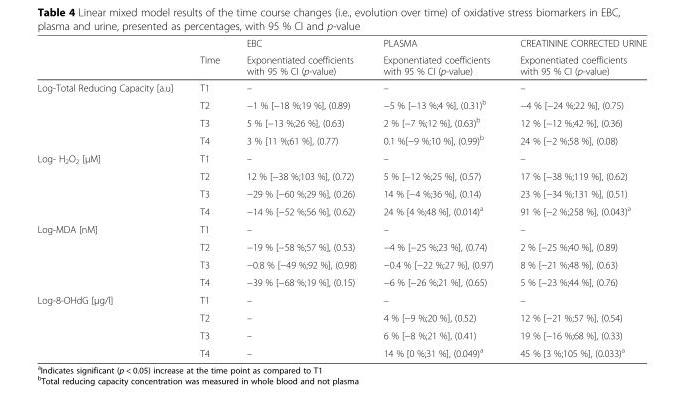table: (36, 37, 646, 358)
table column: (36, 37, 185, 358), (506, 37, 646, 358), (232, 37, 369, 358), (369, 37, 506, 358), (185, 37, 232, 358)
table column header: (36, 37, 646, 78)
table row: (36, 50, 646, 78), (36, 201, 646, 220), (36, 95, 646, 113), (36, 130, 646, 148), (36, 148, 646, 166), (36, 166, 646, 184), (36, 237, 646, 255), (36, 272, 646, 290), (36, 290, 646, 308), (36, 308, 646, 326), (36, 78, 646, 95), (36, 113, 646, 130), (36, 184, 646, 201), (36, 220, 646, 237), (36, 255, 646, 272), (36, 326, 646, 343), (36, 343, 646, 358), (36, 37, 646, 50)
table spanning cell: (36, 148, 185, 220), (36, 78, 185, 148), (36, 220, 185, 290), (36, 290, 185, 358), (506, 37, 646, 78), (232, 37, 369, 78), (369, 37, 506, 78), (185, 37, 232, 78)
